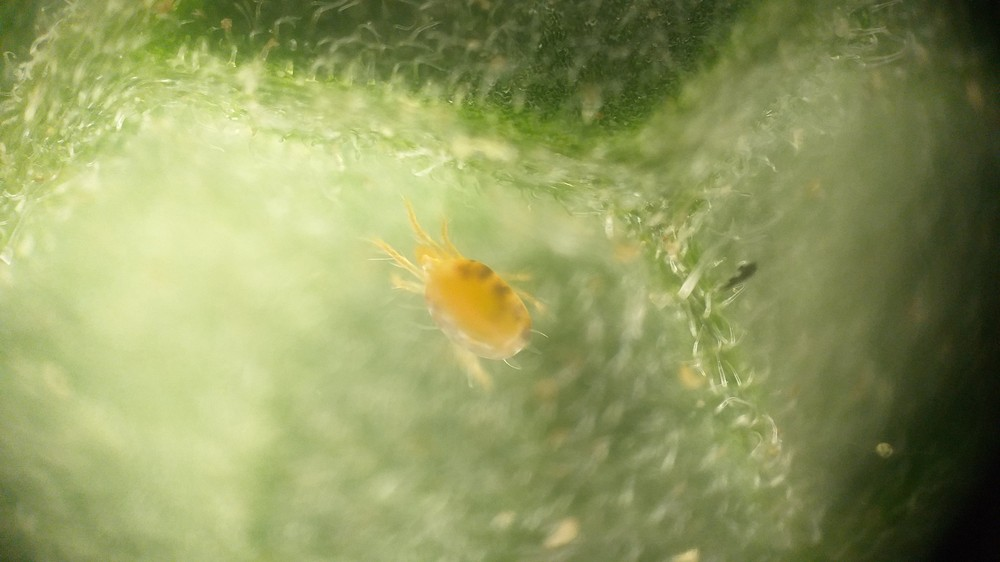Aracnido Rojo: (360, 194, 571, 405)
